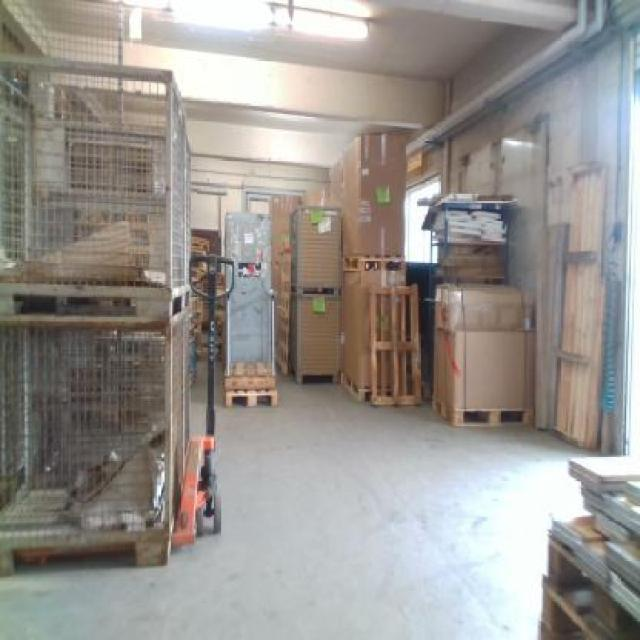pallet: (526, 528, 638, 638), (0, 276, 195, 328), (0, 524, 176, 580), (431, 388, 535, 429), (220, 388, 284, 413), (344, 252, 410, 274), (335, 363, 367, 403), (288, 281, 341, 299), (296, 370, 342, 384)
